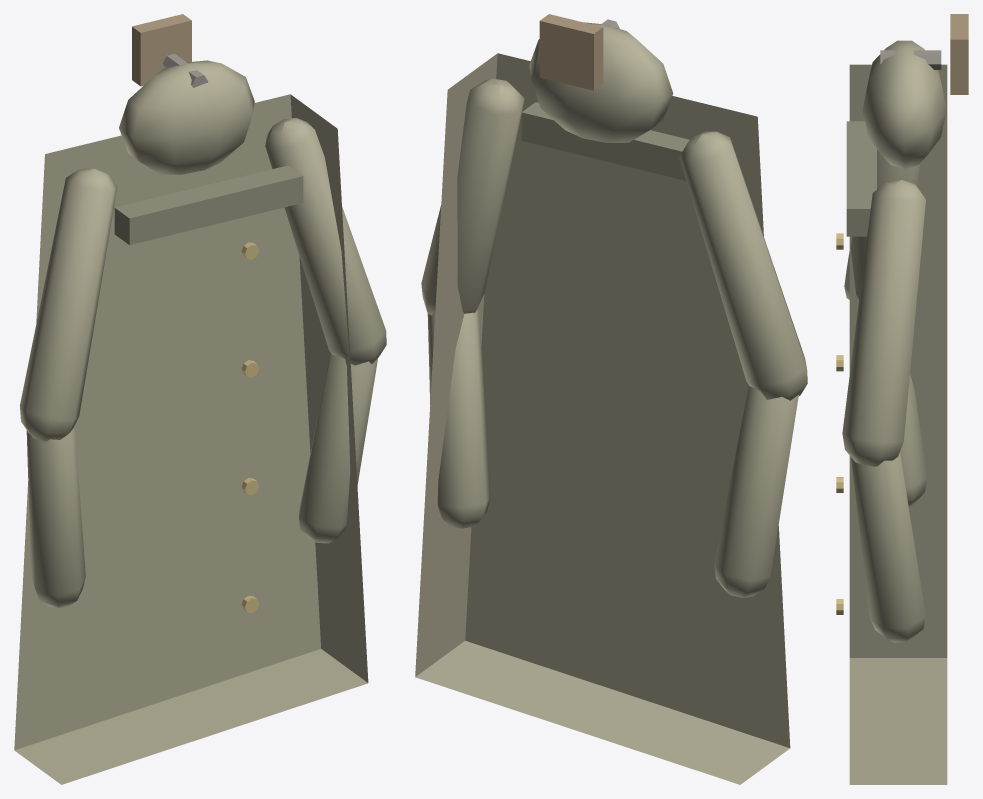
Rendered from trench-line-1917-greatcoat-peg-42274b2f__24104.glb.
3 renders of one model, left to right at view 1: azimuth 30°, elevation 25°; view 2: azimuth 150°, elevation 25°; view 3: azimuth 270°, elevation 25°, orthographic. The views are drawn at different scales.
Visible parts, largest first — view 1: greatcoat-peg; view 2: greatcoat-peg; view 3: greatcoat-peg.
Boxes of the visible parts, box(x1,y1,x2,y2) form: greatcoat-peg: box(14, 14, 386, 784); greatcoat-peg: box(415, 14, 807, 784); greatcoat-peg: box(836, 14, 968, 784).
Bounding box in the file's own units: 0.6993 × 1.28 × 0.217.
